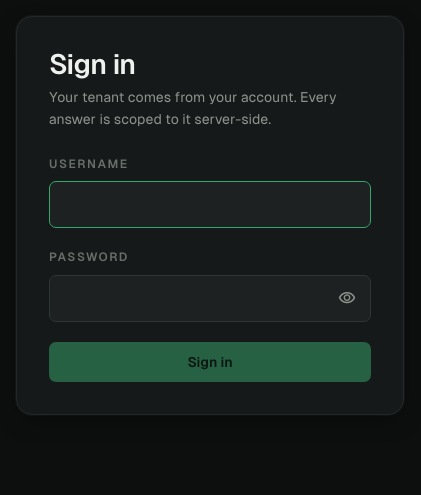
Scenario: LoginView › reports an unreachable backend
Type "acme_analyst" into the field labelled "Username". click: (210, 205)
box: [49, 181, 371, 228]
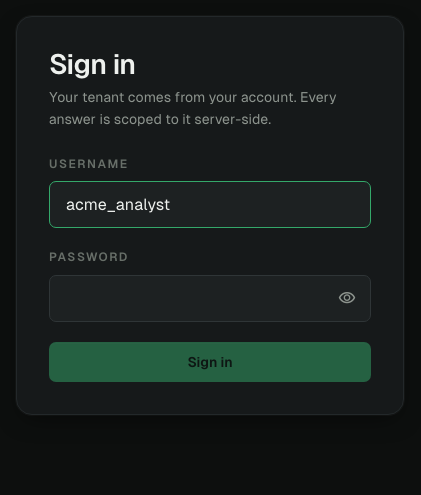
Type "secret" into the password field labelled "Password". click: (210, 298)
box: [49, 275, 371, 322]
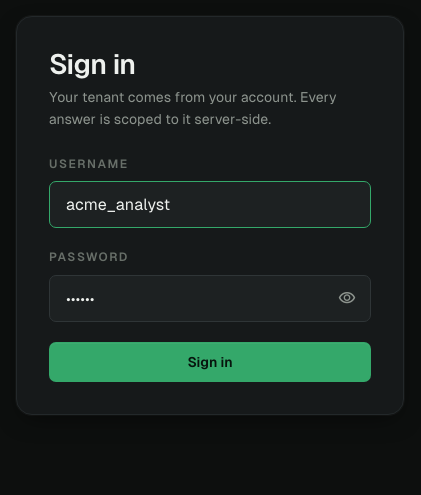
Click the button "Sign in". click: (210, 362)
box: [49, 342, 371, 382]
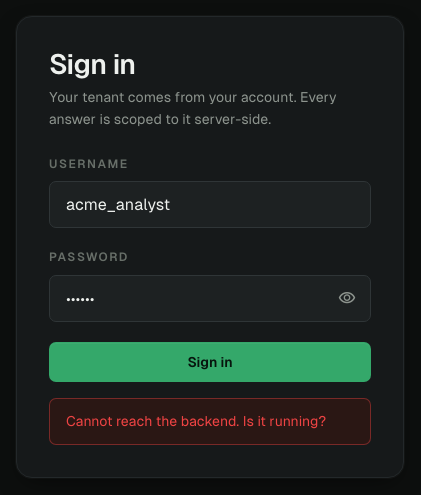
Check: the message shows "Cannot reach the backend", box [66, 413, 326, 429]
